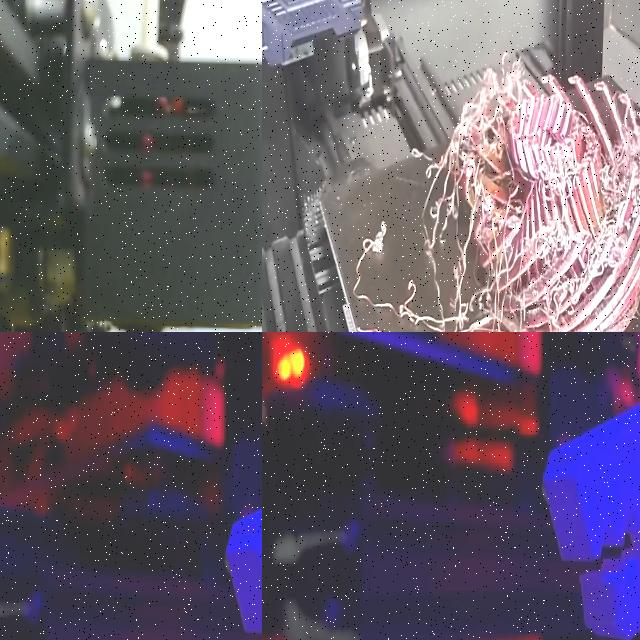spaghetti: (292, 58, 640, 332)
